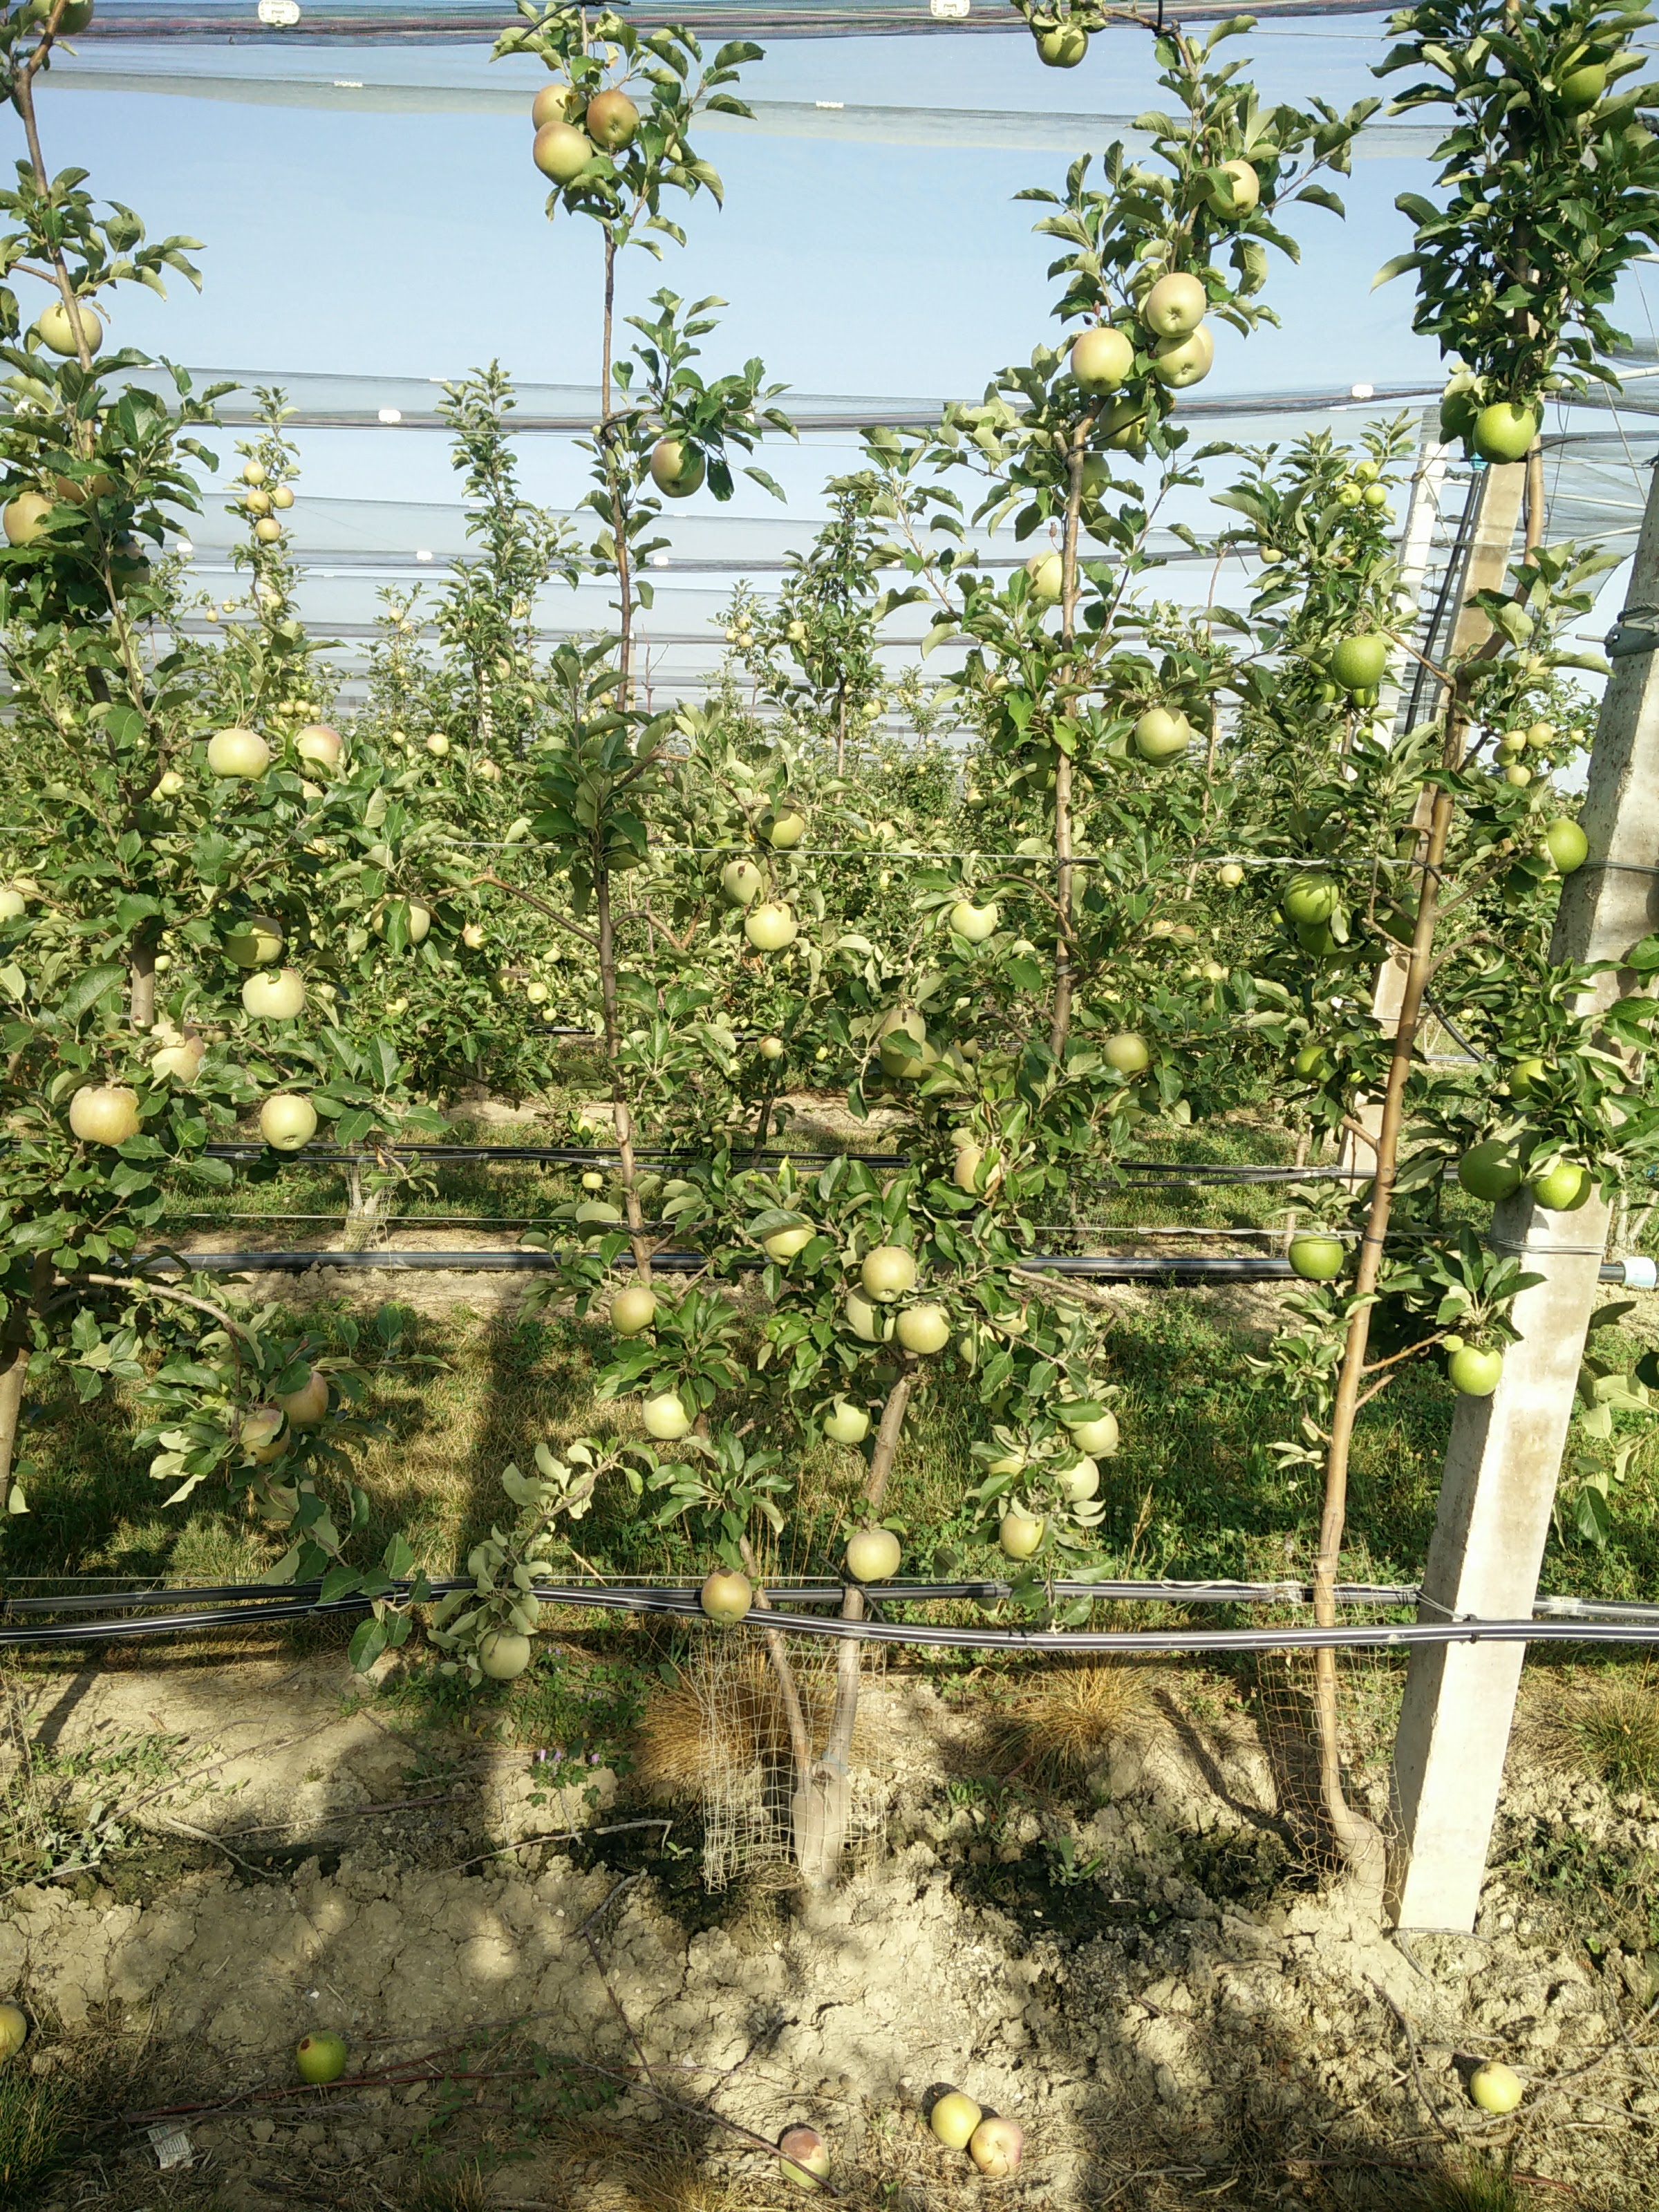apple: (1466, 397, 1543, 462), (71, 1078, 142, 1144), (1070, 330, 1139, 395), (6, 479, 70, 548), (1143, 271, 1212, 333), (265, 1369, 335, 1426), (142, 1026, 207, 1087), (281, 724, 350, 780), (530, 125, 592, 185), (236, 970, 308, 1020), (1152, 336, 1212, 395), (1331, 630, 1389, 692), (39, 299, 101, 353), (583, 93, 643, 148), (895, 1302, 951, 1362), (236, 1407, 297, 1463), (858, 1246, 918, 1300), (650, 440, 706, 496), (639, 1385, 696, 1443), (1533, 1151, 1591, 1208), (259, 1095, 319, 1150), (1281, 871, 1340, 924), (205, 727, 269, 778), (760, 1210, 819, 1263), (817, 1392, 876, 1445), (695, 1569, 754, 1622), (1129, 712, 1190, 762), (1530, 816, 1585, 872), (1447, 1346, 1502, 1400), (845, 1529, 903, 1581), (1290, 1223, 1344, 1277), (529, 85, 583, 137), (744, 905, 799, 953), (605, 1288, 663, 1333), (1025, 554, 1078, 603), (754, 800, 805, 849), (478, 1631, 529, 1679), (947, 897, 1001, 943), (996, 1513, 1047, 1559), (1099, 1033, 1154, 1074), (719, 862, 768, 907)
